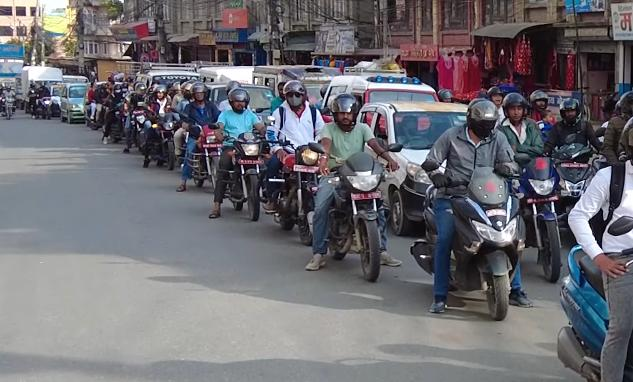bike: (412, 151, 536, 326), (306, 133, 407, 287)
